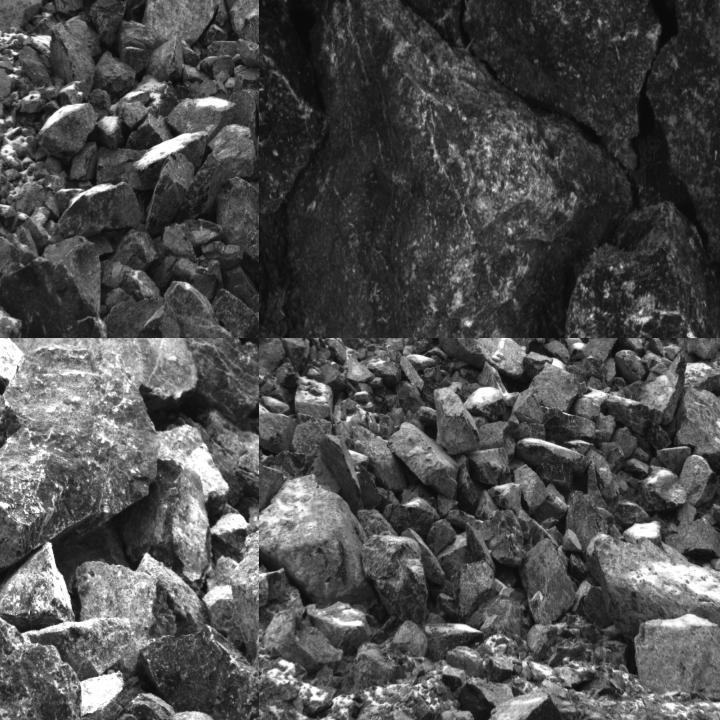stone: (280, 0, 632, 337), (0, 343, 163, 580), (464, 0, 669, 174), (547, 202, 719, 337), (648, 0, 719, 271), (259, 473, 386, 621), (587, 530, 719, 643), (115, 458, 213, 590), (259, 0, 314, 211), (140, 624, 258, 719), (0, 247, 111, 337), (304, 0, 484, 47), (181, 124, 258, 220), (22, 617, 134, 682), (633, 613, 719, 697), (0, 541, 76, 634), (362, 534, 428, 632), (186, 338, 258, 426), (48, 183, 144, 244), (386, 421, 458, 494), (518, 536, 576, 626), (619, 350, 686, 425), (418, 338, 527, 381), (50, 15, 102, 100), (217, 178, 258, 281), (164, 280, 238, 337), (146, 151, 194, 238), (463, 582, 524, 646), (673, 386, 719, 469), (39, 103, 100, 164), (144, 0, 224, 45), (433, 388, 481, 456), (105, 297, 181, 337), (168, 98, 236, 142), (478, 509, 524, 568), (568, 492, 608, 558), (453, 562, 495, 624), (600, 395, 654, 436), (93, 51, 136, 102), (107, 226, 159, 268), (485, 694, 572, 719), (541, 406, 595, 445), (680, 454, 719, 507), (214, 290, 257, 337), (89, 0, 127, 48), (145, 36, 185, 80), (296, 377, 333, 416), (123, 692, 175, 719), (228, 0, 258, 44), (536, 462, 574, 492), (681, 338, 719, 361), (646, 423, 672, 450), (54, 0, 84, 18)
